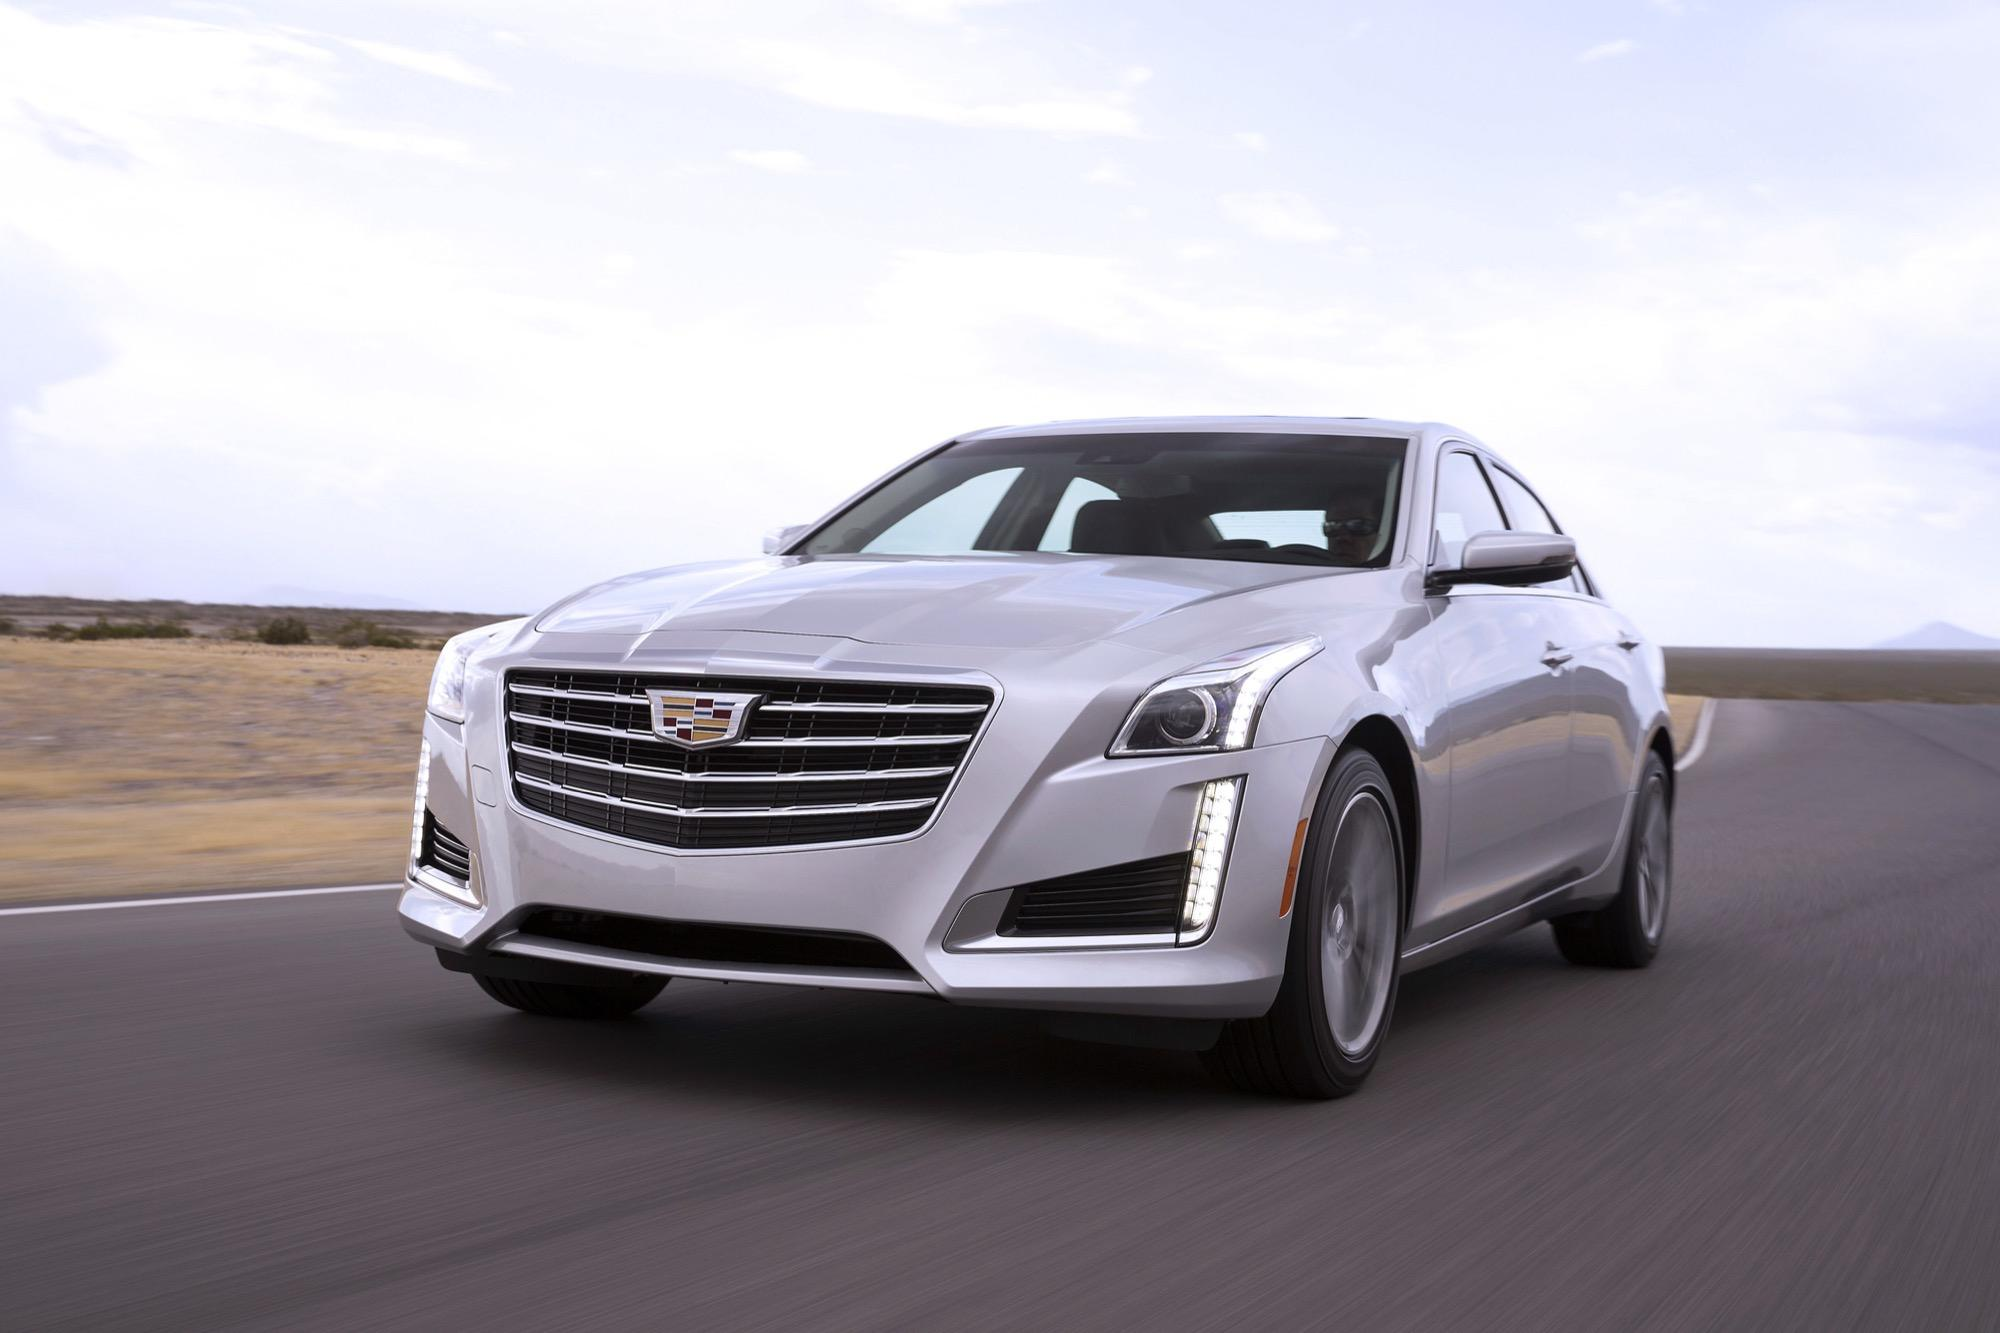car: (391, 391, 1691, 1089)
